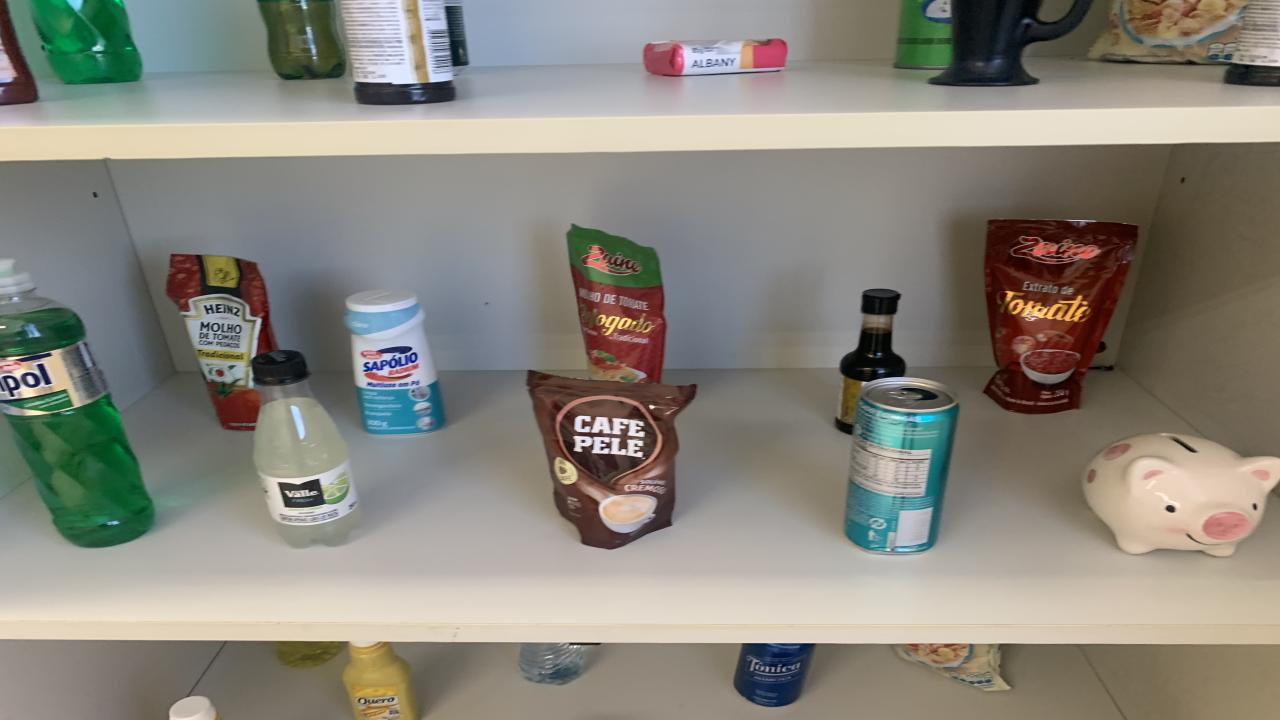Cleaner-Cleanup_Items: (342, 289, 445, 435)
Coffee-Pantry_Items: (528, 371, 698, 549)
Detergent-Cleanup_Items: (0, 262, 155, 548), (30, 0, 142, 84), (275, 641, 340, 668)
English_Sauce-Pantry_Items: (340, 0, 455, 105), (835, 289, 905, 433), (1225, 0, 1280, 86)
Flakes-Snacks: (1088, 0, 1250, 64), (895, 643, 1010, 692)
Guarana-Drinks: (258, 0, 345, 79)
Mustard-Pantry_Items: (342, 641, 418, 720), (170, 696, 218, 720)
Pig_Safe-Miscellaneous: (1082, 433, 1280, 557)
Pringles-Snacks: (895, 0, 952, 69)
Soap-Cleanup_Items: (642, 39, 788, 75)
Soda-Drinks: (250, 351, 362, 548)
Tea-Drinks: (845, 377, 960, 553)
Tomato_Sauce-Pantry_Items: (985, 219, 1138, 412), (168, 255, 278, 429), (568, 225, 665, 382)
Tonic-Drinks: (732, 643, 815, 707)
Water_Bottle-Drinks: (518, 643, 588, 684)
